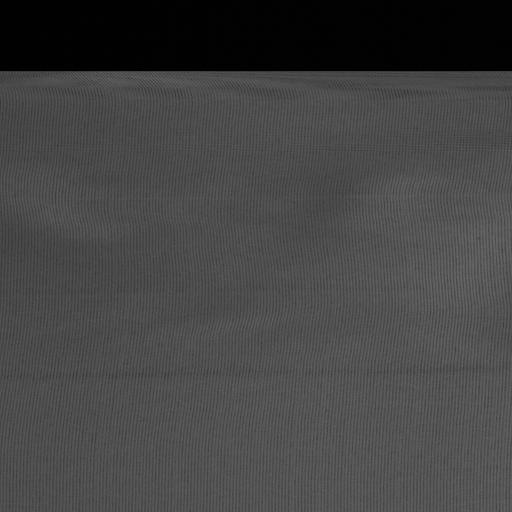defect: (2, 359, 512, 386)
